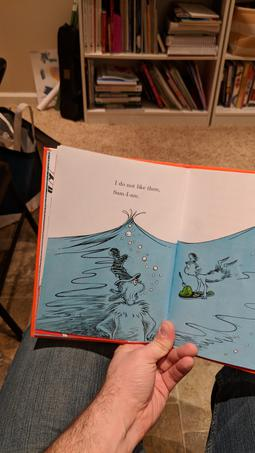text block: (106, 174, 162, 204)
